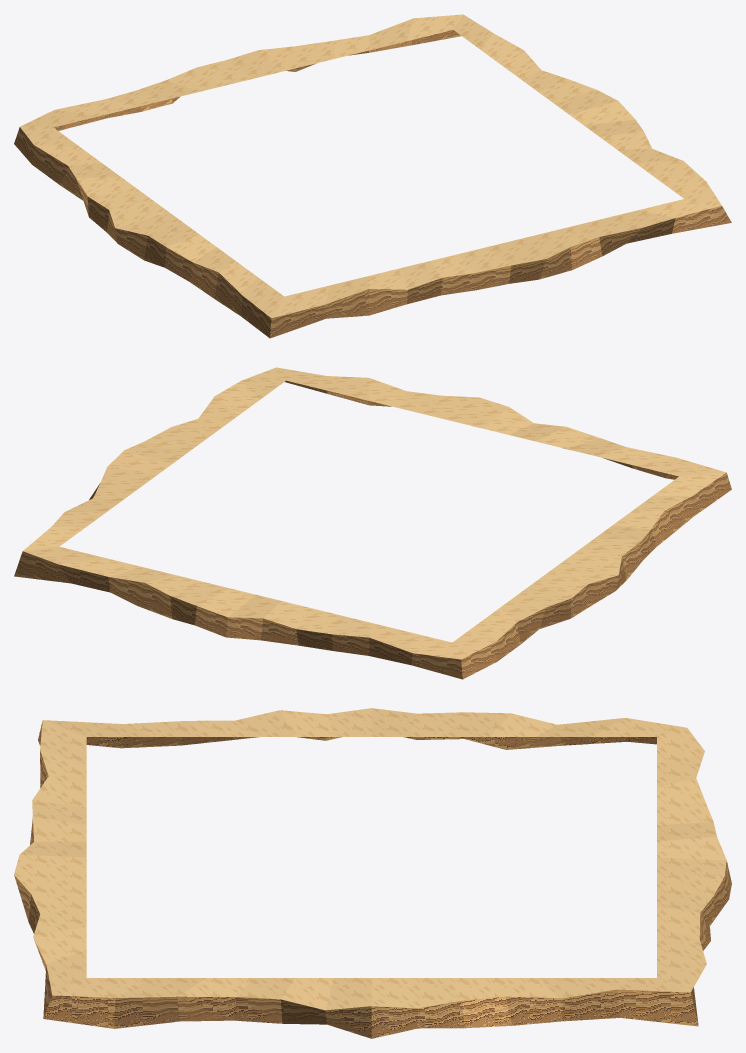
File: entorno_16.fbx
3 views of the same model, one above another, from view 1: azimuth 30°, elevation 25°; view 2: azimuth 150°, elevation 25°; view 3: azimuth 270°, elevation 25° (orthographic). The views are drawn at different scales.
Visible parts, largest first — view 1: deserto_entorno_16; view 2: deserto_entorno_16; view 3: deserto_entorno_16.
Boxes of the visible parts, x1,y1,x2,y2 form: deserto_entorno_16: (14, 14, 731, 338); deserto_entorno_16: (14, 367, 731, 679); deserto_entorno_16: (14, 708, 731, 1038).
Bounding box in the file's own units: 2059 × 107 × 2039.
Materials: 2 (2 with a texture image).
